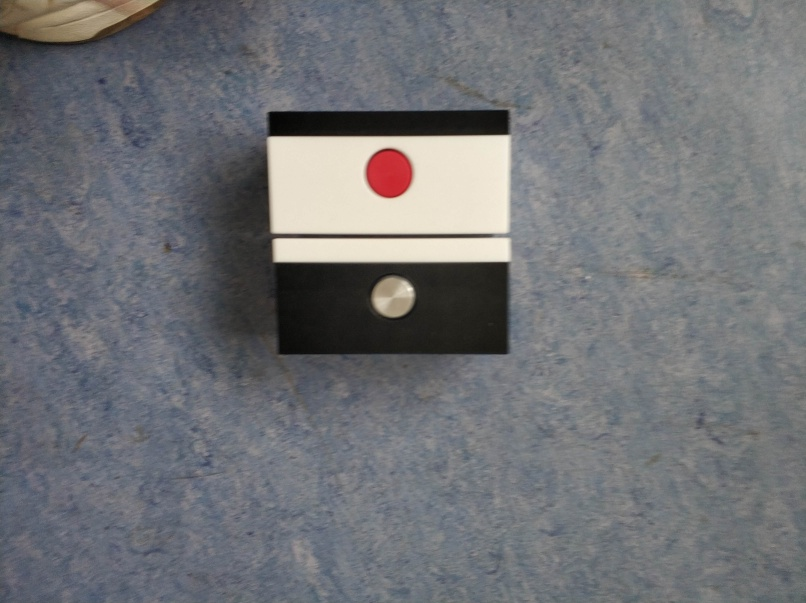black+white+red: (264, 108, 514, 235)
white+black+silver: (269, 235, 512, 359)
